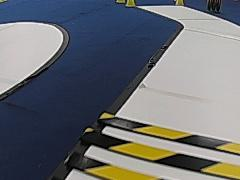bump: (83, 114, 238, 179)
